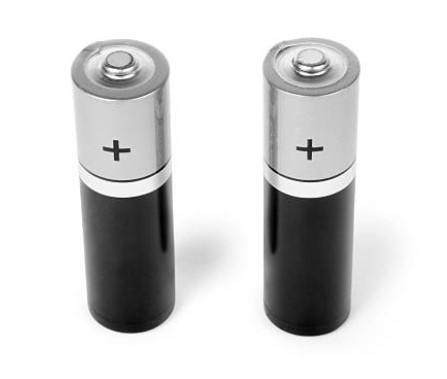Battery: (71, 39, 175, 333), (264, 38, 361, 336)
